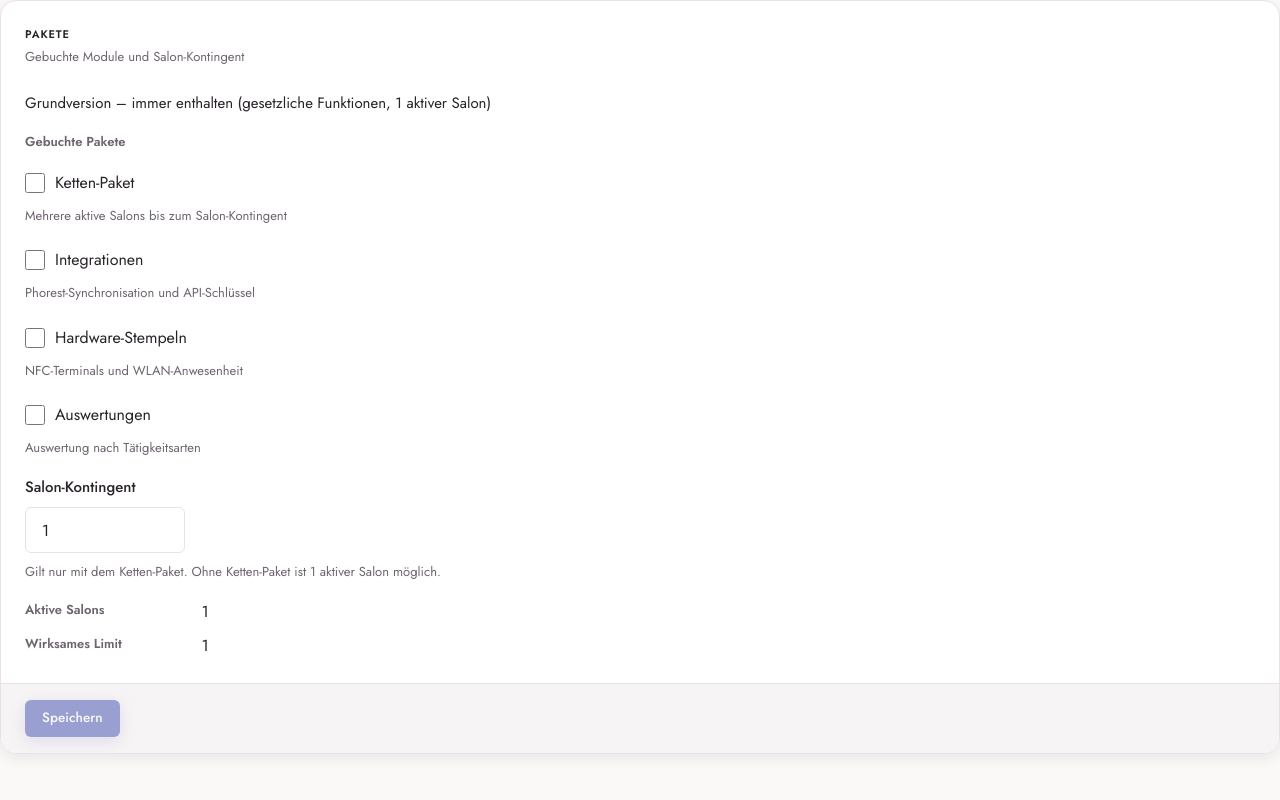
PackagesSection › toggling a box shows the dirty hint and enables Speichern
This screenshot has width=1280, height=800.
Click the checkbox labelled "Hardware-Stempeln" at point(35, 338), box top-left (25, 328), bottom-right (45, 348)
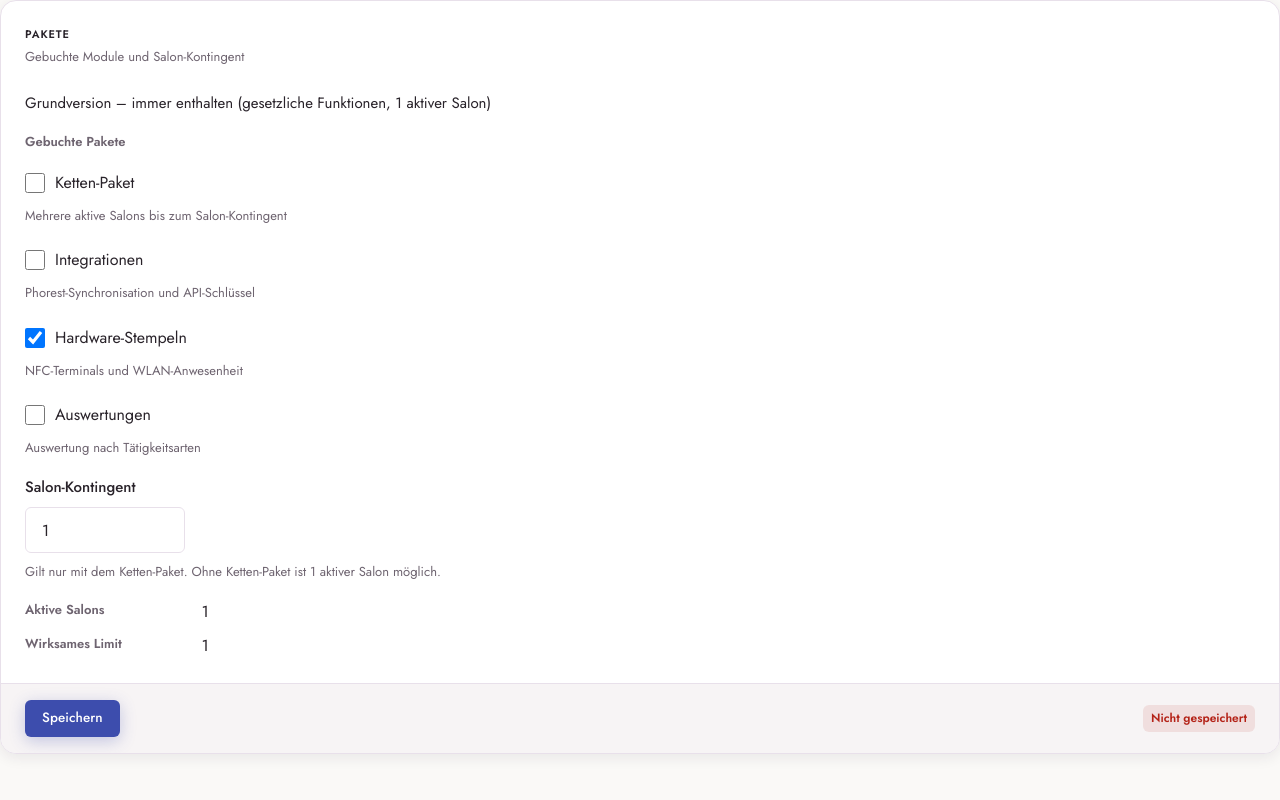
Expected: the text "Nicht gespeichert" is shown, top-left (1143, 704), bottom-right (1255, 732)
Click the checkbox labelled "Hardware-Stempeln" at point(35, 338), box top-left (25, 328), bottom-right (45, 348)
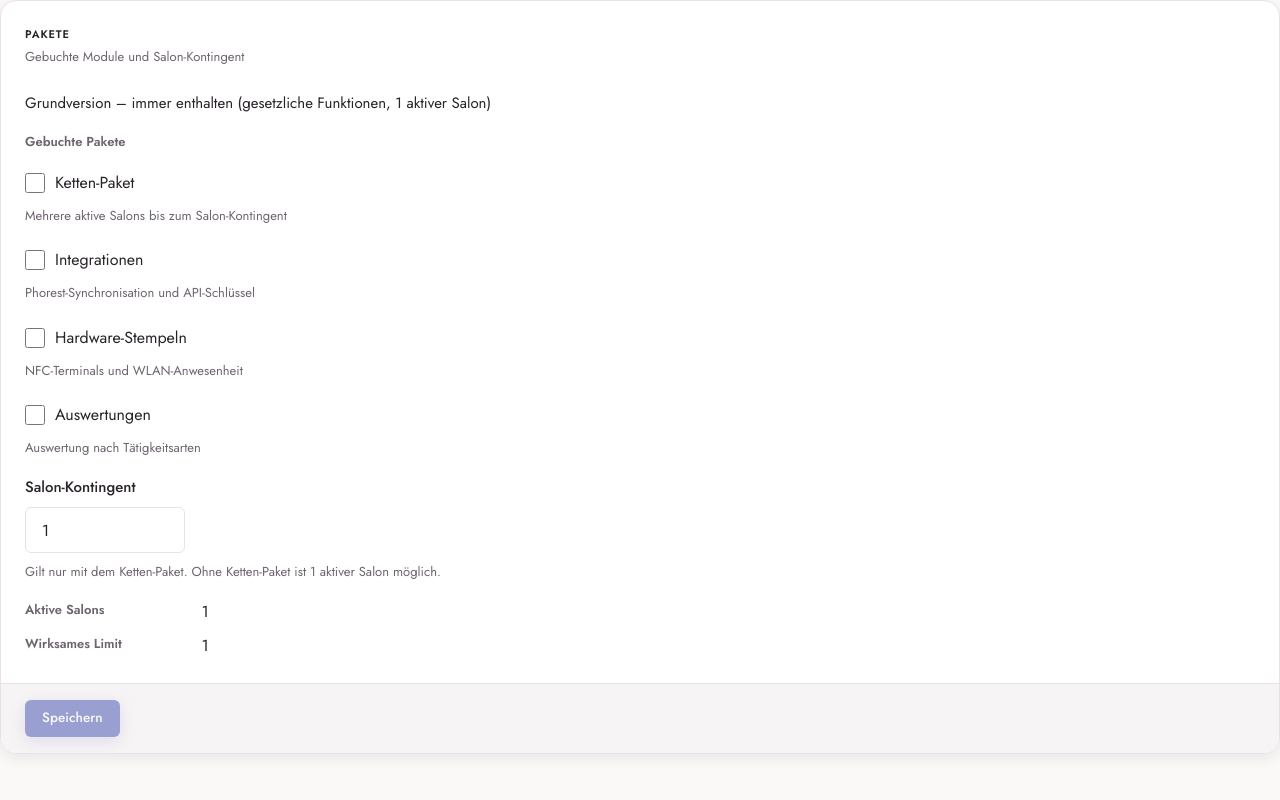
Expected: the text "Nicht gespeichert" is gone
